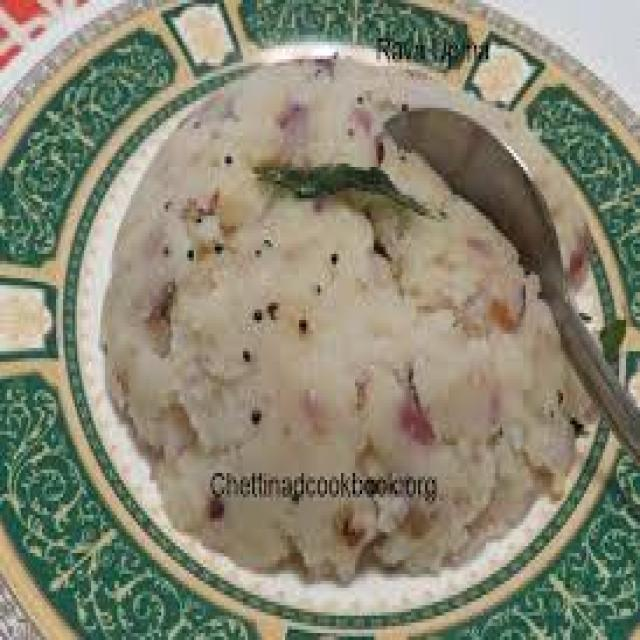UPMA: (79, 63, 598, 574)
